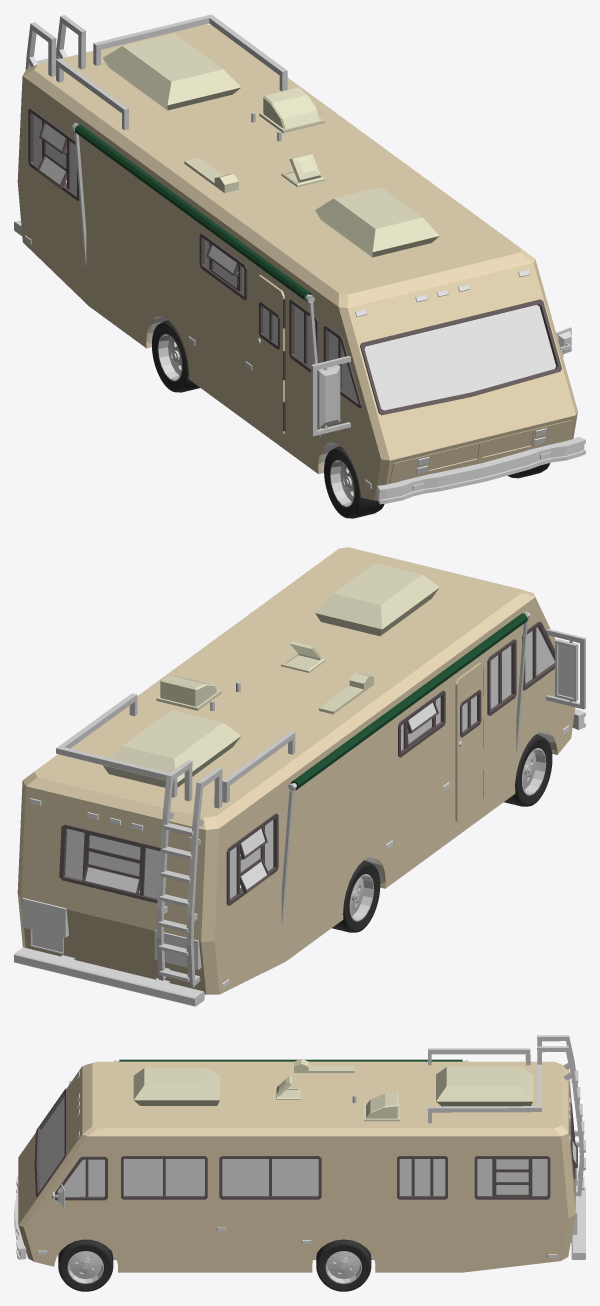
Rendered from RvBreakingBad.fbx.
The picture shows the model from 3 angles, top to bottom: view 1: azimuth 30°, elevation 25°; view 2: azimuth 150°, elevation 25°; view 3: azimuth 270°, elevation 25°; orthographic projection. The views are drawn at different scales.
Parts seen in each view (by area): view 1: Carroceria, ObjetosTecho, Vidrios, MarcosVentanas, Ruedas, ParachoquesDelantero, Puerta, Toldo, Retrovisores, Escalera, Luces; view 2: Carroceria, ObjetosTecho, Vidrios, MarcosVentanas, ParachoquesTrasero, Escalera, Ruedas, Toldo, Puerta, Retrovisores, Placa; view 3: Carroceria, Vidrios, ObjetosTecho, MarcosVentanas, Ruedas, Escalera, Toldo, ParachoquesTrasero, ParachoquesDelantero, Luces.
Part boxes in pixels (<box>): Carroceria: <box>17,24,577,500</box>; ObjetosTecho: <box>56,14,439,257</box>; Vidrios: <box>33,115,555,410</box>; MarcosVentanas: <box>28,108,561,415</box>; Ruedas: <box>152,320,550,518</box>; ParachoquesDelantero: <box>377,428,585,504</box>; Puerta: <box>256,275,285,435</box>; Toldo: <box>72,123,320,437</box>; Retrovisores: <box>311,327,571,436</box>; Escalera: <box>25,15,86,76</box>; Luces: <box>25,235,551,490</box>; Carroceria: <box>17,547,575,994</box>; ObjetosTecho: <box>56,563,439,802</box>; Vidrios: <box>65,627,554,898</box>; MarcosVentanas: <box>59,621,554,905</box>; ParachoquesTrasero: <box>14,898,204,1006</box>; Escalera: <box>156,760,222,987</box>; Ruedas: <box>332,734,552,932</box>; Toldo: <box>281,612,530,926</box>; Puerta: <box>455,662,483,823</box>; Retrovisores: <box>546,629,585,709</box>; Placa: <box>30,929,63,954</box>; Carroceria: <box>18,1061,575,1272</box>; Vidrios: <box>39,1097,576,1196</box>; ObjetosTecho: <box>133,1048,541,1123</box>; MarcosVentanas: <box>34,1088,577,1200</box>; Ruedas: <box>58,1239,371,1291</box>; Escalera: <box>537,1035,585,1196</box>; Toldo: <box>114,1059,467,1061</box>; ParachoquesTrasero: <box>571,1168,585,1259</box>; ParachoquesDelantero: <box>14,1175,26,1259</box>; Luces: <box>37,1071,570,1258</box>.
Bounding box in the file's own units: 357 × 340 × 922.
